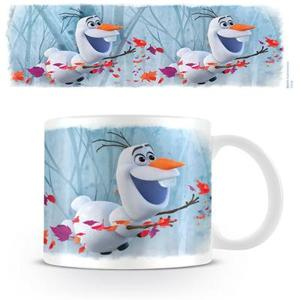olaf: (82, 140, 184, 249)
